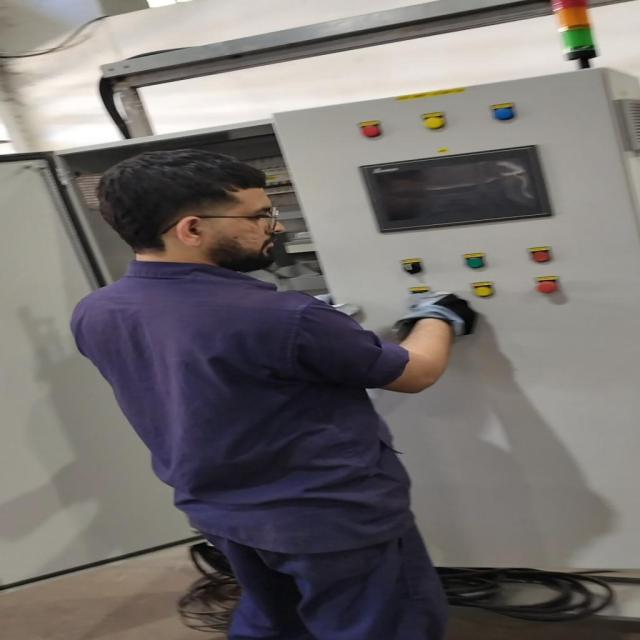Gloves-Detection: (388, 288, 469, 340)
